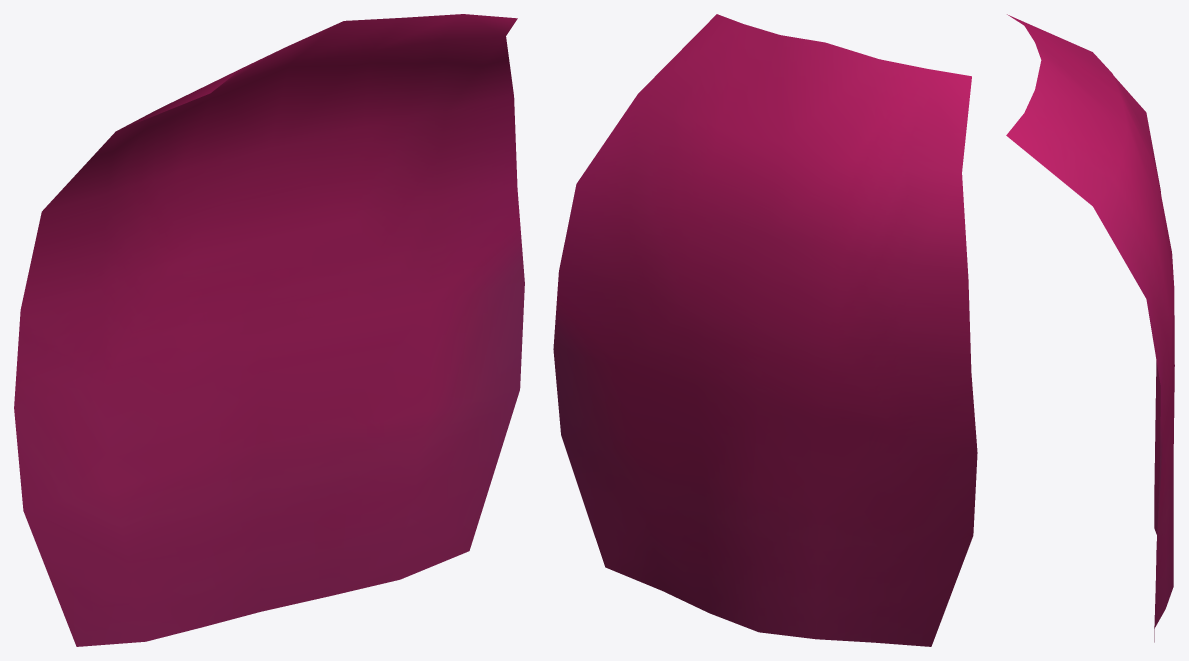
Rendered from cape_mage.glb.
3 views of the same model, side by side, from view 1: azimuth 30°, elevation 25°; view 2: azimuth 150°, elevation 25°; view 3: azimuth 270°, elevation 25° (orthographic). The views are drawn at different scales.
Visible parts, largest first — view 1: Mage_Cape; view 2: Mage_Cape; view 3: Mage_Cape.
Part boxes in pixels (x1,y1,x2,y2): Mage_Cape: [14, 14, 524, 646]; Mage_Cape: [553, 14, 977, 646]; Mage_Cape: [1006, 14, 1174, 642].
Bounding box in the file's own units: 0.9708 × 1.18 × 0.3426.
Materials: 1 (1 with a texture image).
